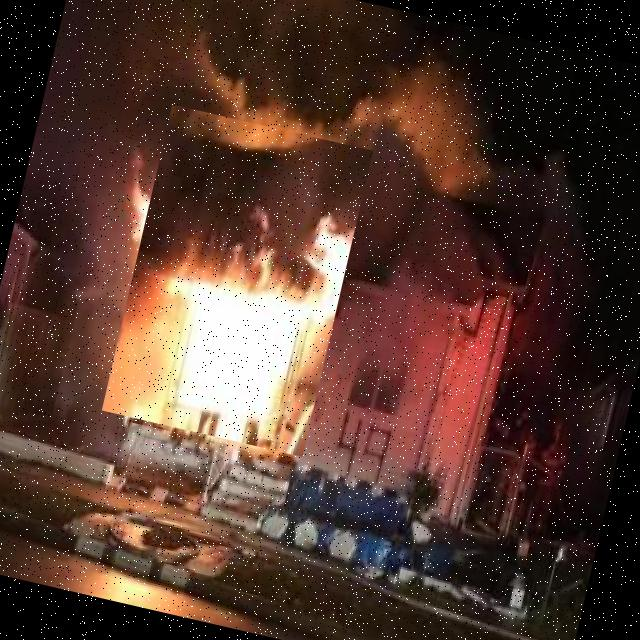fire: (101, 104, 372, 457)
